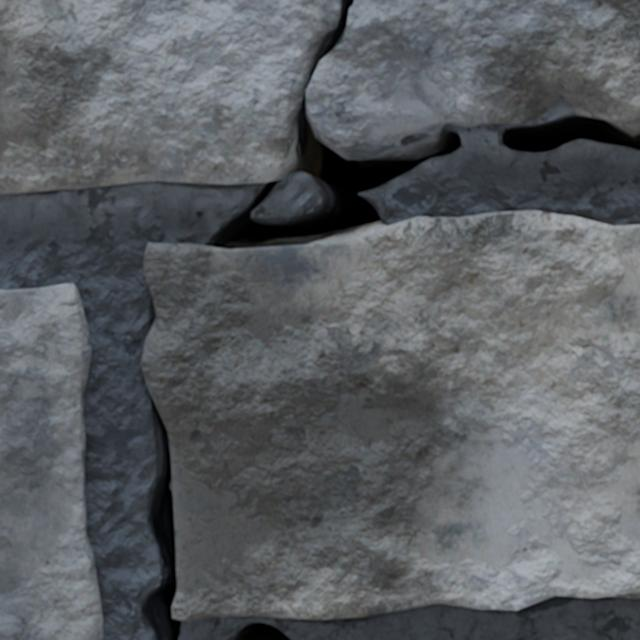broken_brick: (0, 0, 340, 194), (306, 0, 639, 151)
crack: (137, 0, 639, 639), (0, 284, 102, 639), (499, 112, 639, 159), (227, 622, 298, 639)
